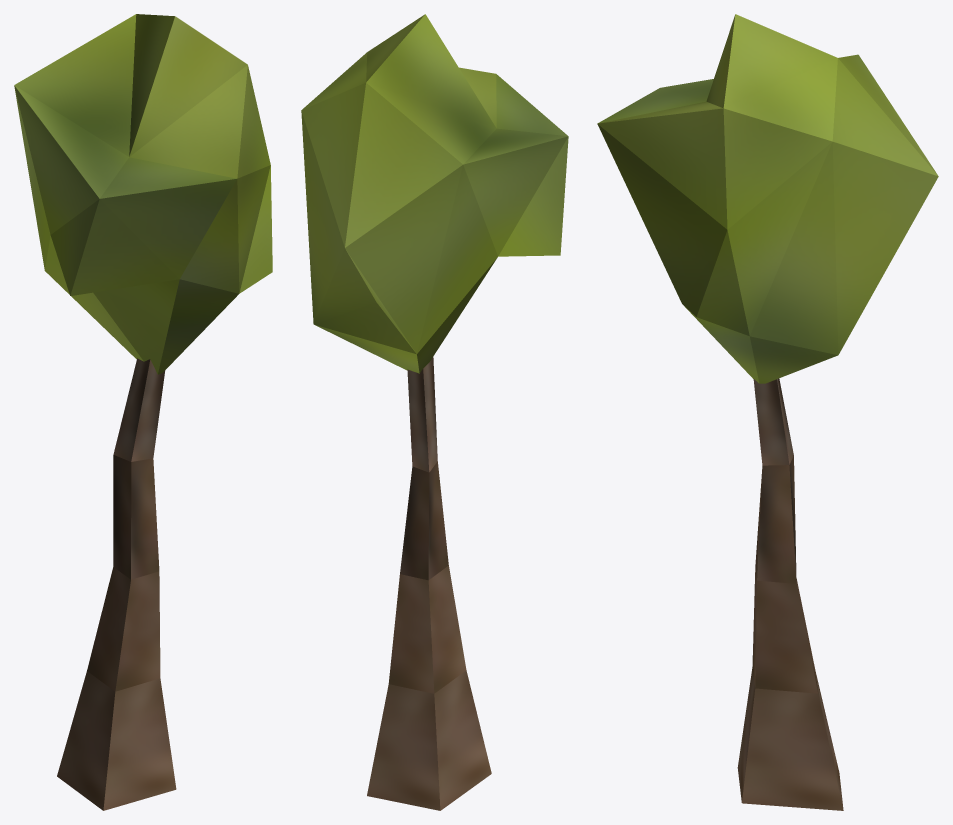
File: tree2.glb
3 renders of one model, left to right at view 1: azimuth 30°, elevation 25°; view 2: azimuth 150°, elevation 25°; view 3: azimuth 270°, elevation 25°, orthographic. The views are drawn at different scales.
Visible parts, largest first — view 1: Tree_2; view 2: Tree_2; view 3: Tree_2.
Boxes of the visible parts, box(x1,y1,x2,y2) form: Tree_2: box(14, 14, 272, 810); Tree_2: box(301, 14, 568, 810); Tree_2: box(597, 14, 938, 810).
Bounding box in the file's own units: 0.7407 × 2.44 × 0.9509.
1 material, 1 textured.
